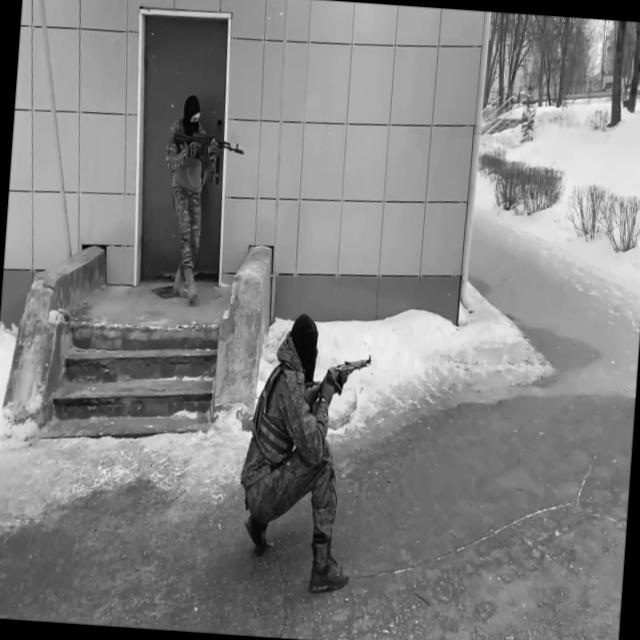gun: (301, 346, 374, 419), (173, 126, 246, 174)
person: (234, 309, 368, 594), (156, 91, 223, 307)
person with a gun: (235, 308, 375, 596), (156, 91, 248, 306)
